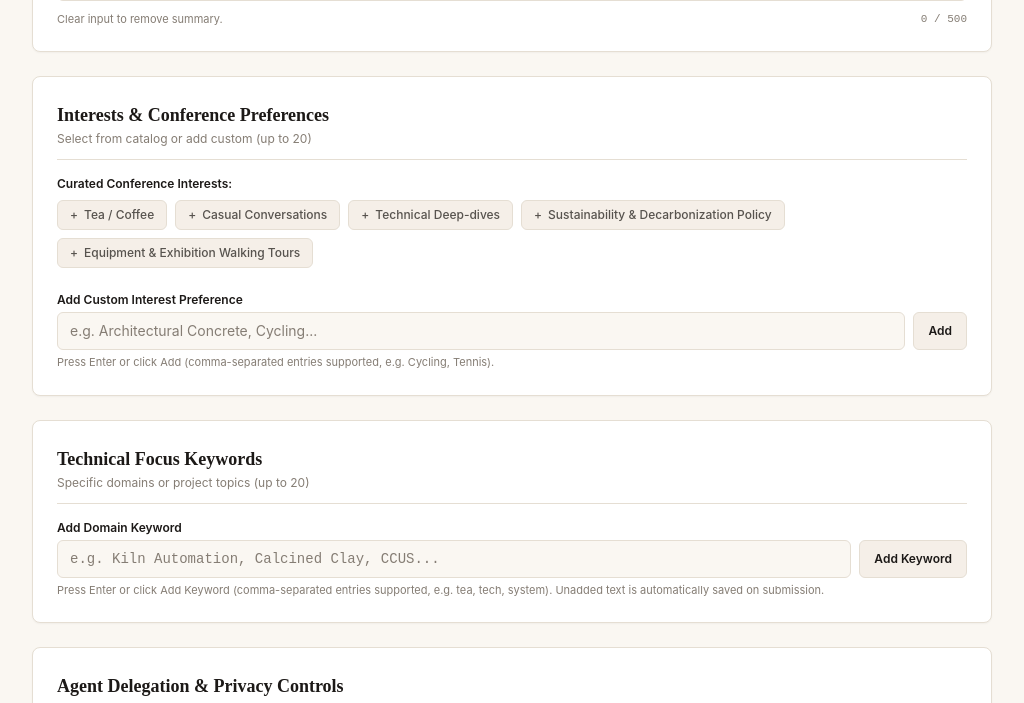
Test: ProfileEdit Component › splits comma-separated keywords and auto-flushes uncommitted inputs on form submit
The width and height of the screenshot is (1024, 703).
Later steps or results of the test are not shown.
(page scrolled)
Expected: the field with placeholder "e.g. Kiln Automation, Calcined Clay, CCUS..." is shown, 57,540 -> 851,578
# Type comma-separated custom hobby and click Add
Type "Badminton, Cycling" into the field with placeholder "e.g. Architectural Concrete, Cycling..." at (481, 331), box 57,312 -> 906,350
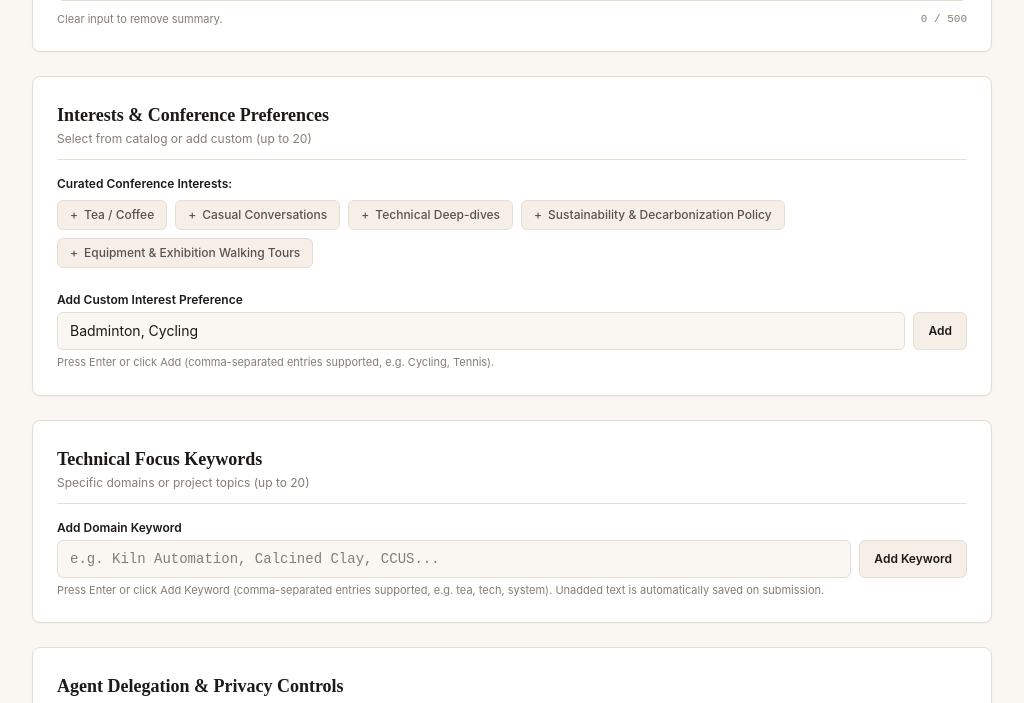
Click the button "Add" at (940, 331), box 914,312 -> 967,350
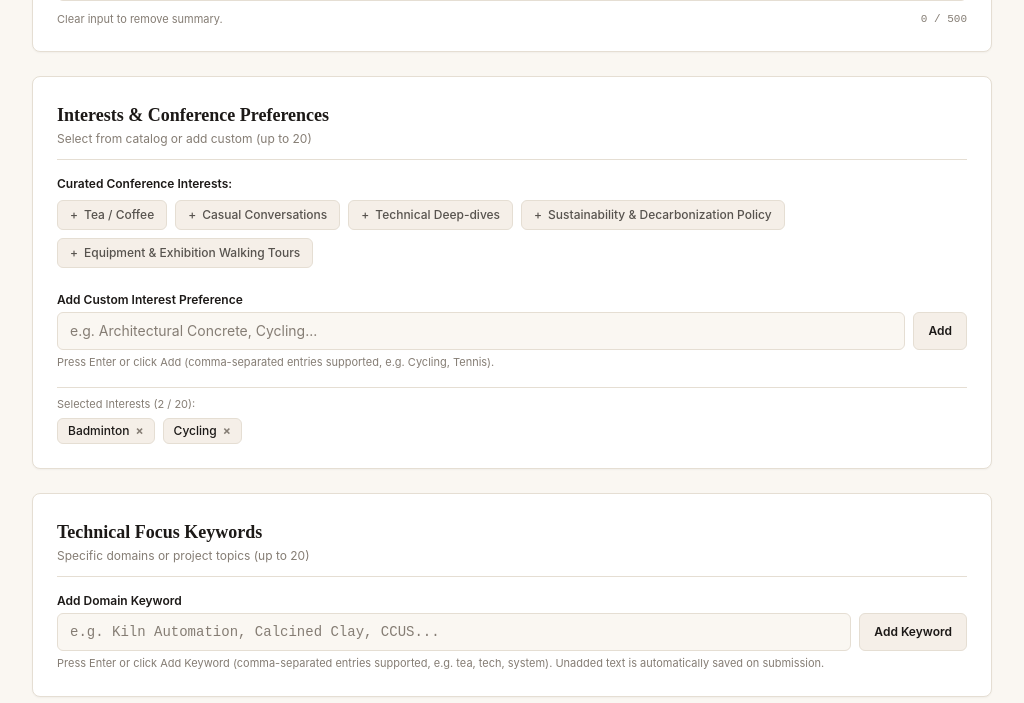
Expected: the text "Badminton" is shown, 68,423 -> 130,439
Expected: the text "Cycling" is shown, 174,423 -> 217,439
